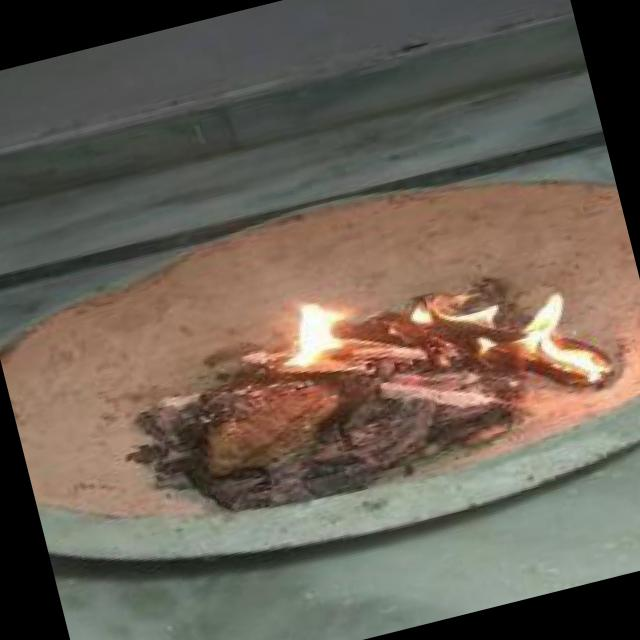fire: (401, 252, 618, 424), (241, 282, 376, 390)
